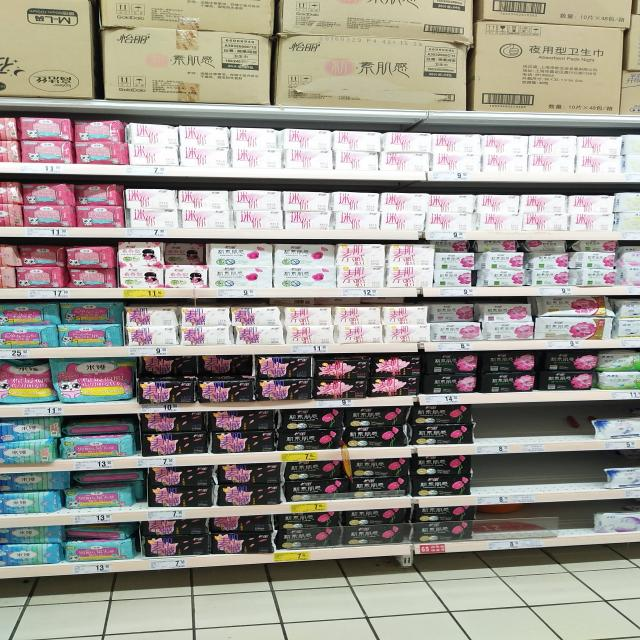100- O.O.S: (511, 456, 601, 498), (520, 403, 565, 451), (476, 405, 516, 453), (474, 457, 509, 503), (560, 503, 590, 544)
